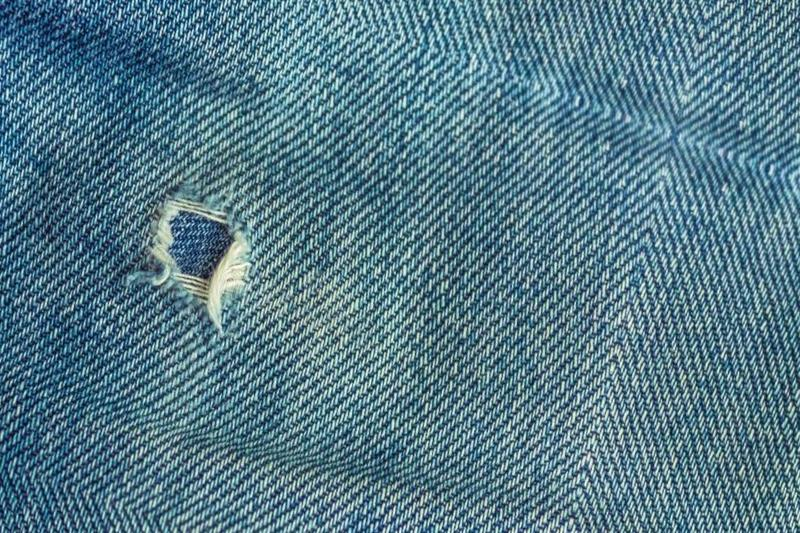hole: (135, 195, 265, 326)
